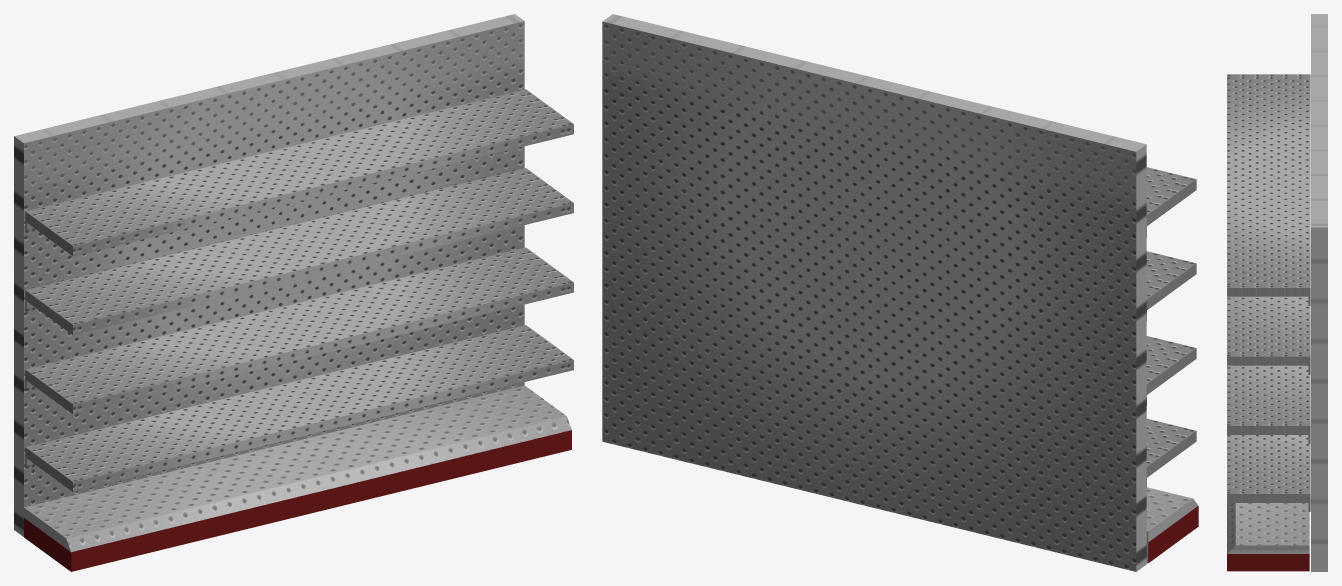
File: Mesh_Static_Estante_01.fbx
The picture shows the model from 3 angles, left to right: view 1: azimuth 30°, elevation 25°; view 2: azimuth 150°, elevation 25°; view 3: azimuth 270°, elevation 25°; orthographic projection. The views are drawn at different scales.
Visible parts, largest first — view 1: Cube.047; view 2: Cube.047; view 3: Cube.047.
Part boxes in pixels (x1=…): Cube.047: x1=14, y1=14, x2=573, y2=571; Cube.047: x1=602, y1=14, x2=1198, y2=571; Cube.047: x1=1227, y1=14, x2=1327, y2=571.
Size of the model in its own units: 979 by 733 by 195.
